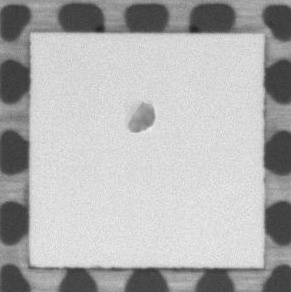DIE_INK: (121, 95, 160, 139)
